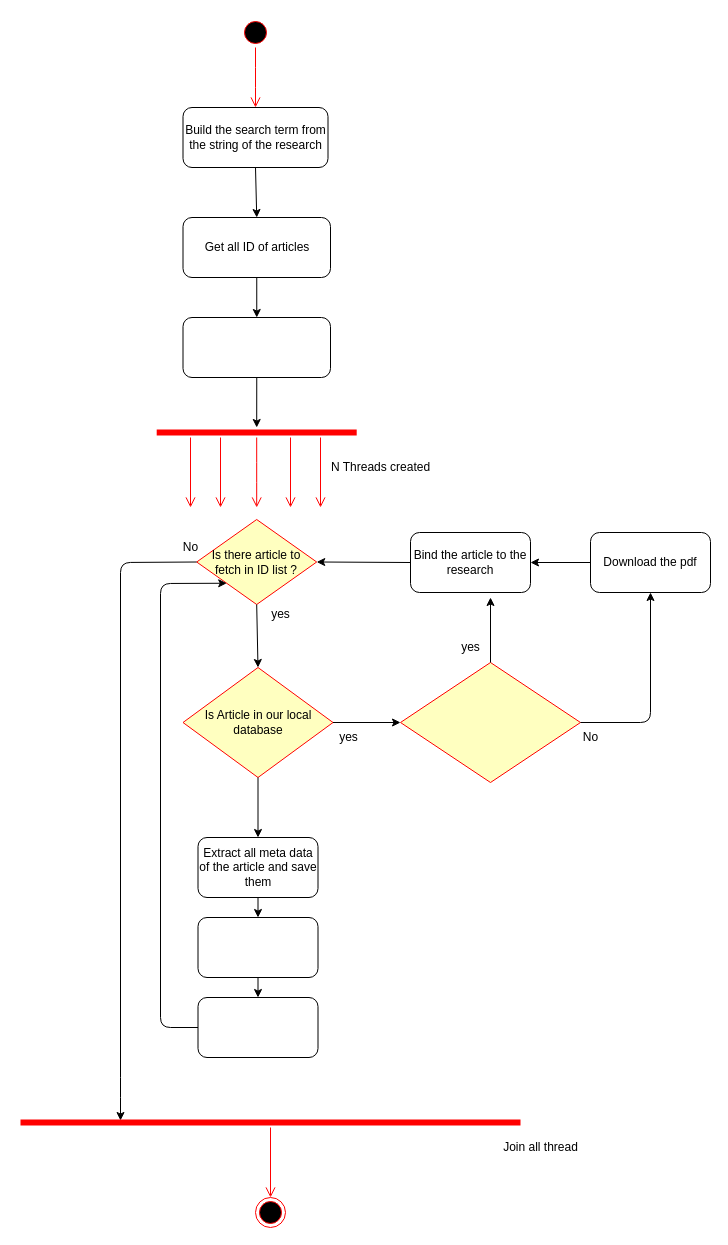
Image size: 728x1245. Some labels were removed from this diagram. Here are the shapes that lost their labels. From the top down, the centre of each, then its label:
At pixel 256 347: "Distribute ID article to Threads".
At pixel 490 722: "Is the pdf of the article in our local database".
At pixel 257 947: "Download the pdf and ectract full-text. Save it to database".
At pixel 257 1027: "We bind the article to the research".
